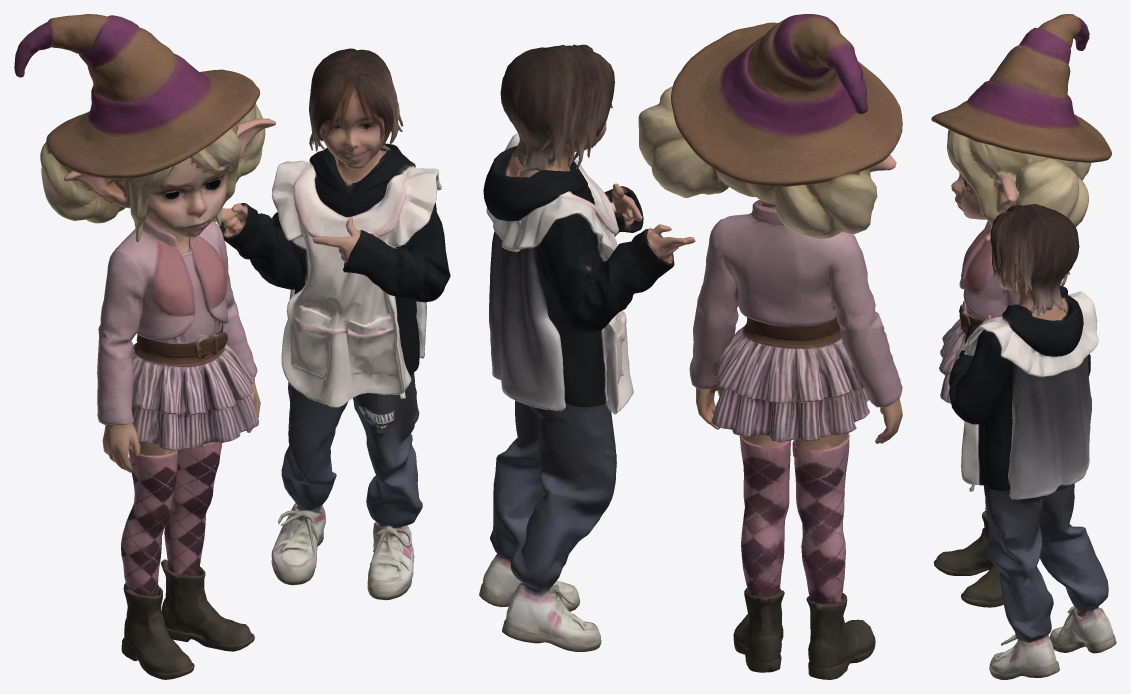
The model's file is Catalina baja.glb.
3 renders of one model, left to right at view 1: azimuth 30°, elevation 25°; view 2: azimuth 150°, elevation 25°; view 3: azimuth 270°, elevation 25°, orthographic. The views are drawn at different scales.
Visible parts, largest first — view 1: tripo_node_5f998036-a6b4-4b18-b96b-a156e19ad0c8; view 2: tripo_node_5f998036-a6b4-4b18-b96b-a156e19ad0c8; view 3: tripo_node_5f998036-a6b4-4b18-b96b-a156e19ad0c8.
Boxes of the visible parts, x1,y1,x2,y2 form: tripo_node_5f998036-a6b4-4b18-b96b-a156e19ad0c8: [14, 14, 450, 679]; tripo_node_5f998036-a6b4-4b18-b96b-a156e19ad0c8: [479, 14, 902, 679]; tripo_node_5f998036-a6b4-4b18-b96b-a156e19ad0c8: [931, 14, 1116, 679].
Bounding box in the file's own units: 0.6412 × 1 × 0.3116.
Materials: 1 (1 with a texture image).
